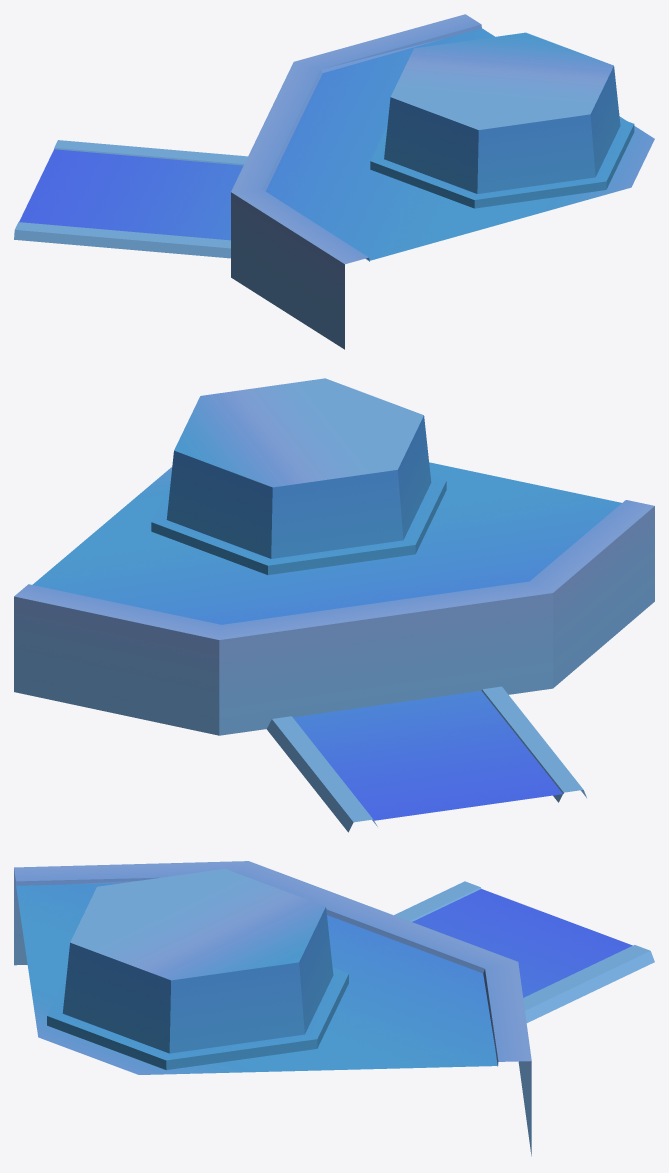
The model's file is daoju_19.fbx.
The picture shows the model from 3 angles, top to bottom: view 1: azimuth 30°, elevation 25°; view 2: azimuth 150°, elevation 25°; view 3: azimuth 270°, elevation 25°; orthographic projection. The views are drawn at different scales.
Visible parts, largest first — view 1: daoju_19; view 2: daoju_19; view 3: daoju_19.
Part boxes in pixels (x1=…): daoju_19: x1=14, y1=14, x2=654, y2=349; daoju_19: x1=14, y1=378, x2=654, y2=832; daoju_19: x1=14, y1=861, x2=654, y2=1156.
Bounding box in the file's own units: 814 × 236 × 790.
